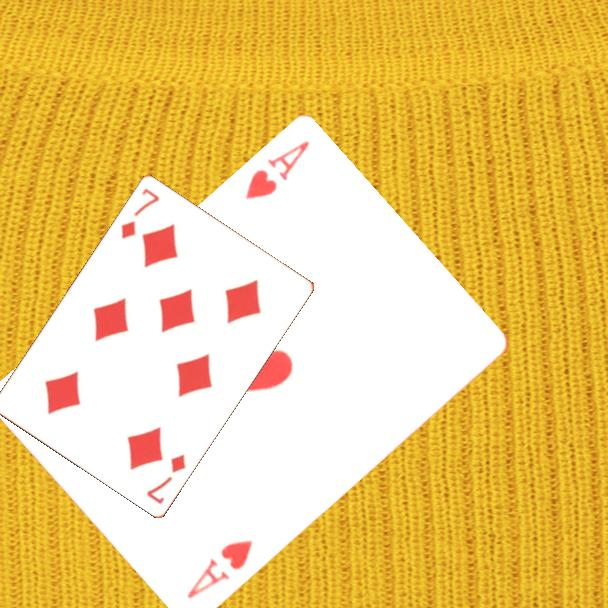d07: (117, 184, 162, 241), (143, 450, 188, 507)
h01: (183, 536, 256, 603), (241, 137, 313, 203)
